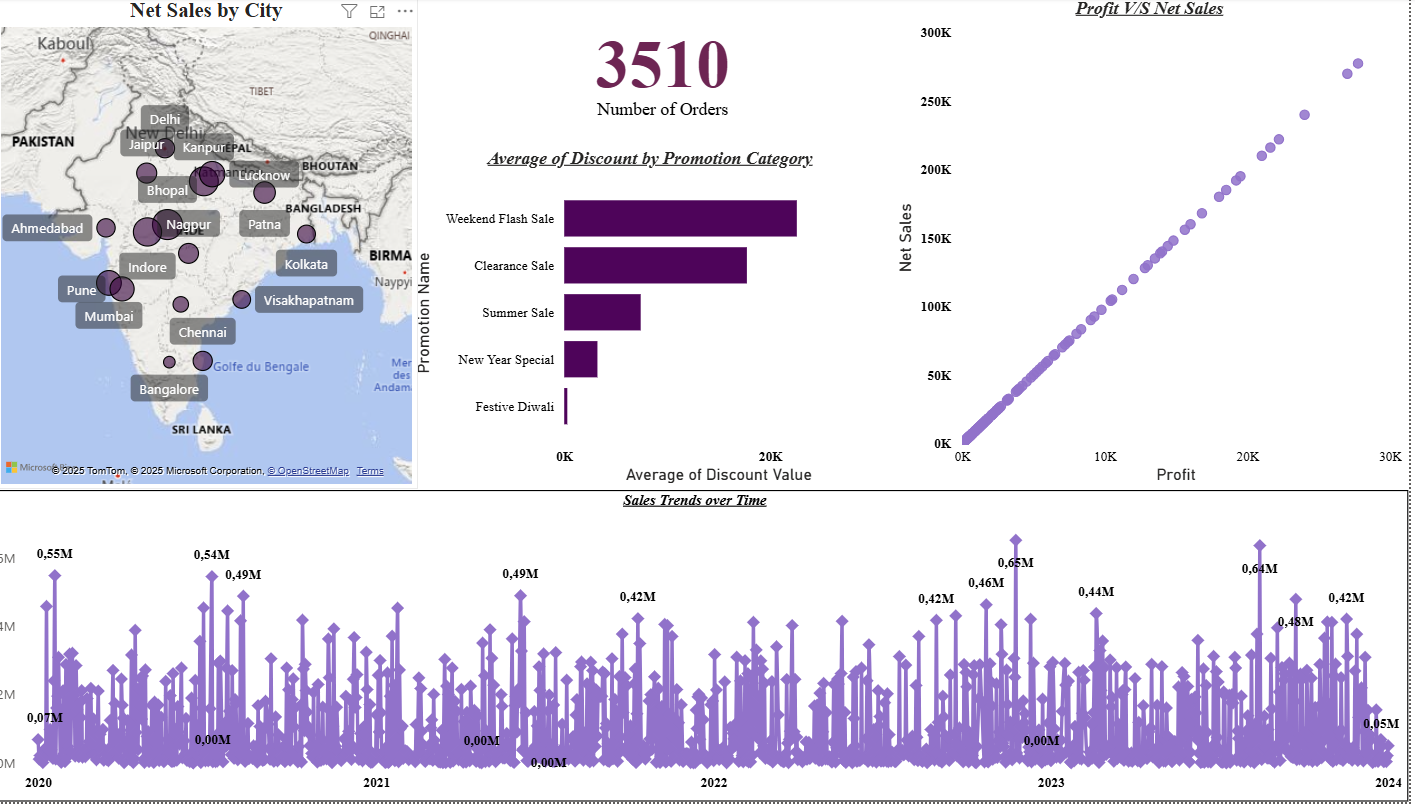

The dashboard page shown, as its layout file describes it:
{"tool":"powerbi","page":{"name":"Overview Analysis","canvas":[1280,720],"ordinal":0},"visuals":[{"type":"lineChart","title":"Sales Trends over Time","fields":{"Y":["Sum(Fact Table.Net Sales )"],"Category":["Fact Table.Date (dd/mm/yyyy).Variation.Date Hierarchy.Year"]},"box":[0,440.6,1280,279.1],"z":0},{"type":"scatterChart","title":"Profit V/S Net Sales ","fields":{"X":["Fact Table.Profit"],"Y":["Fact Table.Net Sales "]},"box":[817,0,463,439.6],"z":1000},{"type":"barChart","title":"Average of Discount by Promotion Category","fields":{"Y":["Avg(Fact Table.Discount Value)"],"Category":["Dim Promotion.Promotion Name"]},"box":[385.2,134.2,431.9,305.4],"z":2000},{"type":"map","title":"Net Sales by City","fields":{"Category":["Dim Customers.City"],"Size":["Sum(Fact Table.Net Sales )"]},"box":[14.6,0,378.4,439.6],"z":2001},{"type":"card","title":"Number of Oders","fields":{"Values":["Count(Fact Table.OrderID)"]},"box":[445.5,0,334.6,124.5],"z":2002}]}

Visuals, with their boxes in screenshot pixels (x1, y1, x2, y2), scaled from the page's 1280x720 canvas onto the 1415x805 screenshot:
"Sales Trends over Time" lineChart: x1=0, y1=493, x2=1414, y2=804
"Profit V/S Net Sales " scatterChart: x1=903, y1=0, x2=1414, y2=491
"Average of Discount by Promotion Category" barChart: x1=426, y1=150, x2=903, y2=491
"Net Sales by City" map: x1=16, y1=0, x2=434, y2=491
"Number of Oders" card: x1=492, y1=0, x2=862, y2=139
